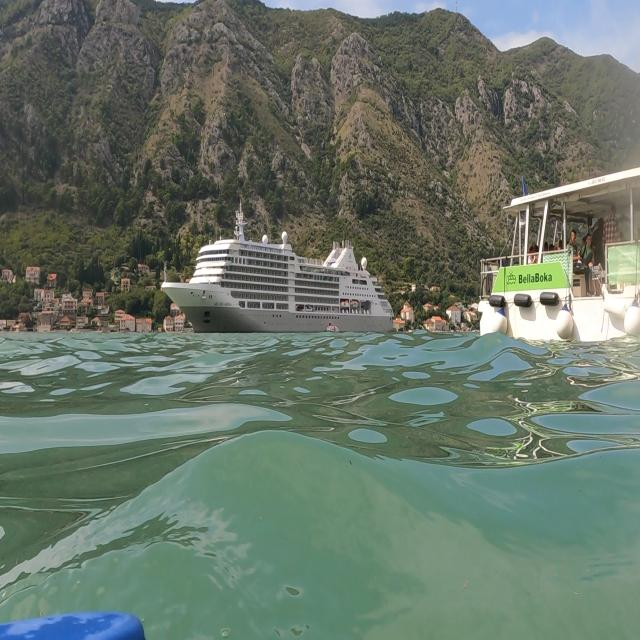boat: (160, 196, 396, 336), (475, 161, 640, 351)
